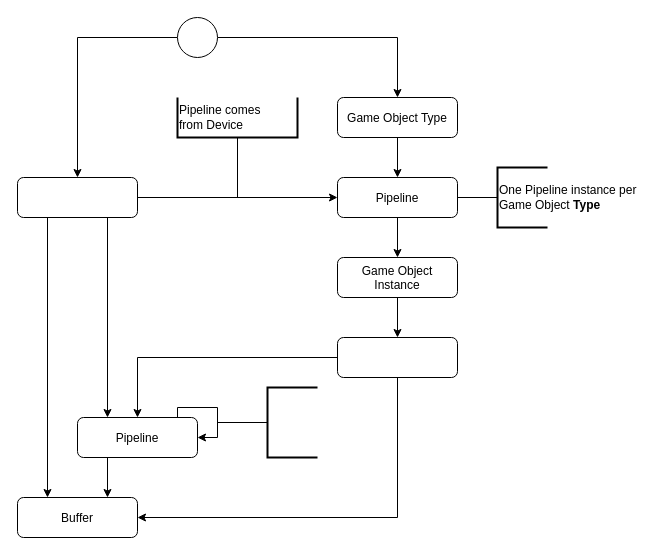
This 654x555 diagram has some shape labels left out. Here are the shapes that lost their labels. From the top down, the box of each, then its label:
(16, 176, 138, 218): Device
(336, 336, 458, 378): Draw
(266, 386, 318, 458): One Pipeline instance per "Effect"
